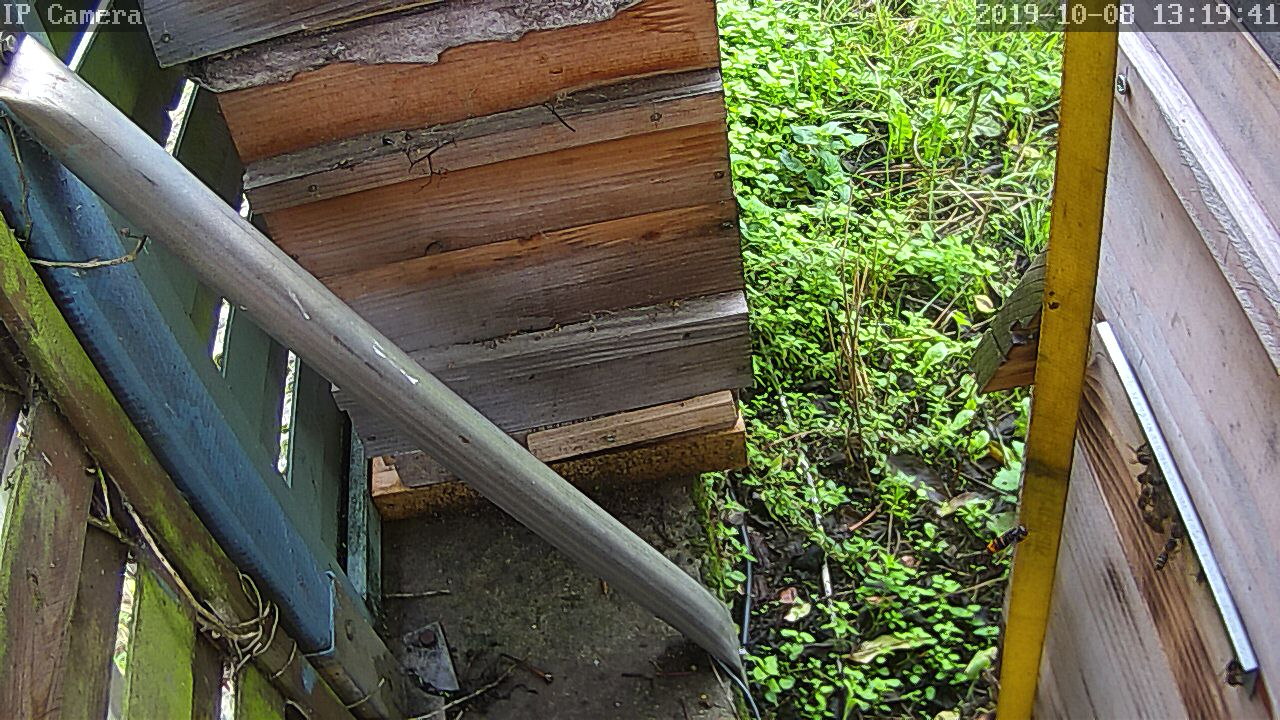bee: (1129, 445, 1166, 497), (1139, 497, 1183, 537), (1151, 534, 1183, 571), (1221, 655, 1248, 692)
hornet: (985, 521, 1031, 560)
